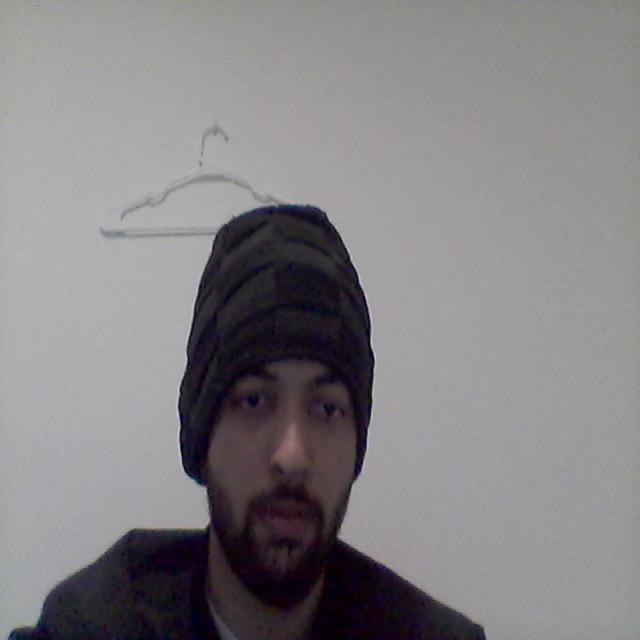cap: (139, 191, 422, 469)
